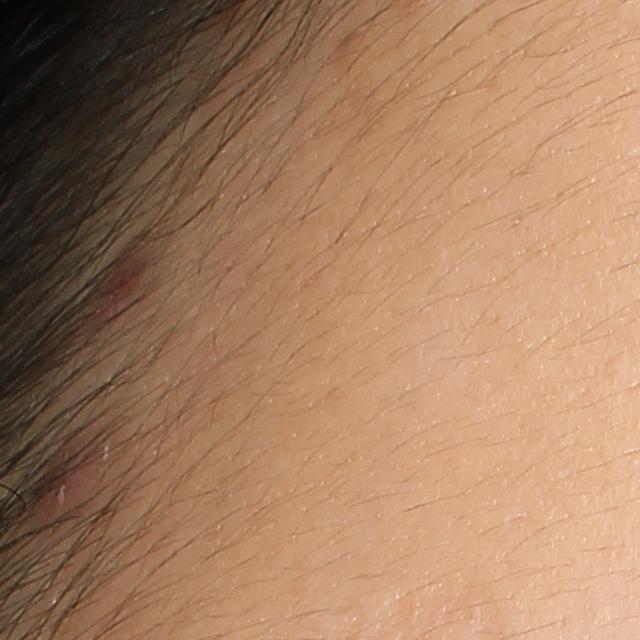papule: (30, 441, 107, 516)
